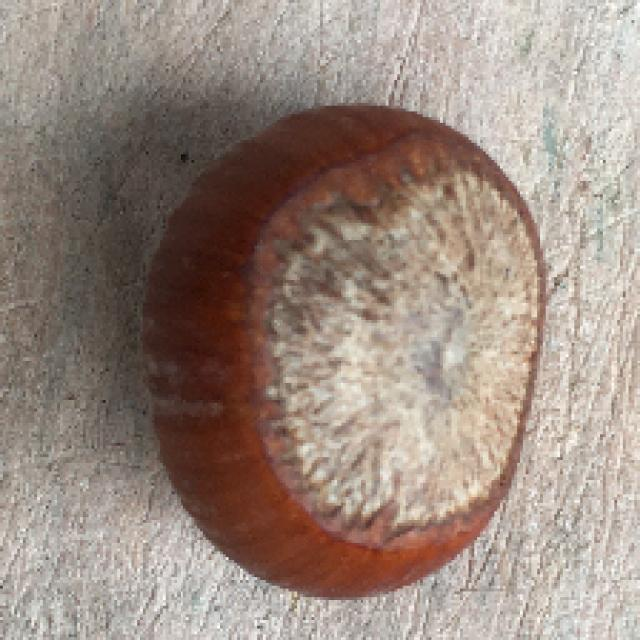qualityHazelnut: (130, 102, 556, 598)
